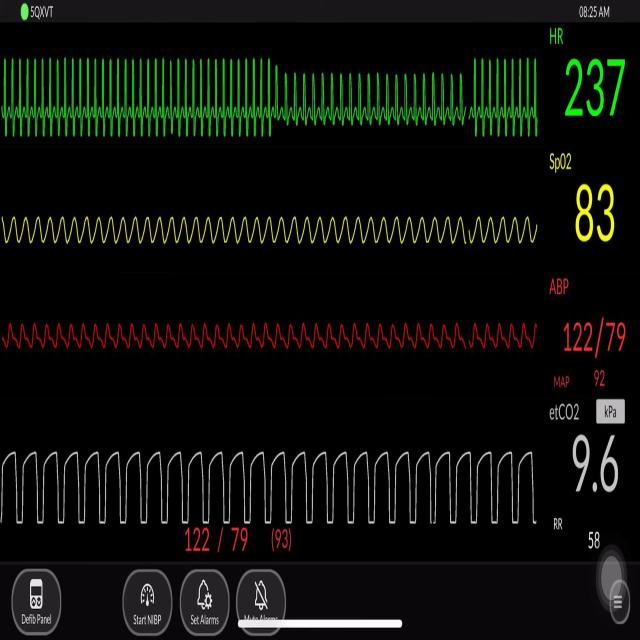danger: (5, 43, 277, 148), (282, 62, 468, 134), (469, 43, 542, 146)
